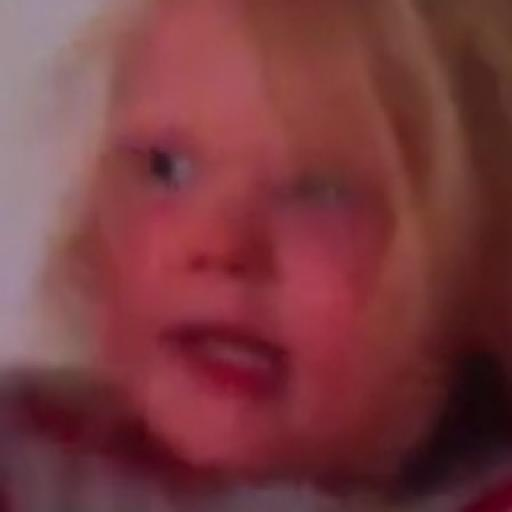Autism: (79, 36, 512, 504)
